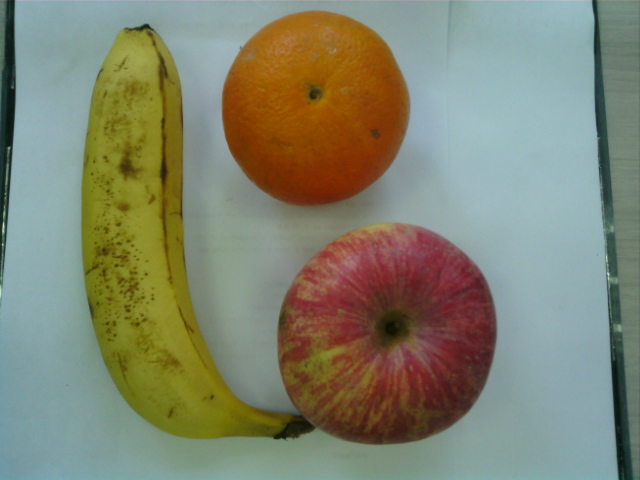normal_apple: (275, 221, 500, 448)
normal_banana: (74, 19, 259, 438)
normal_orange: (221, 10, 412, 208)
